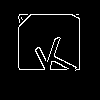K: (27, 27, 78, 83)
